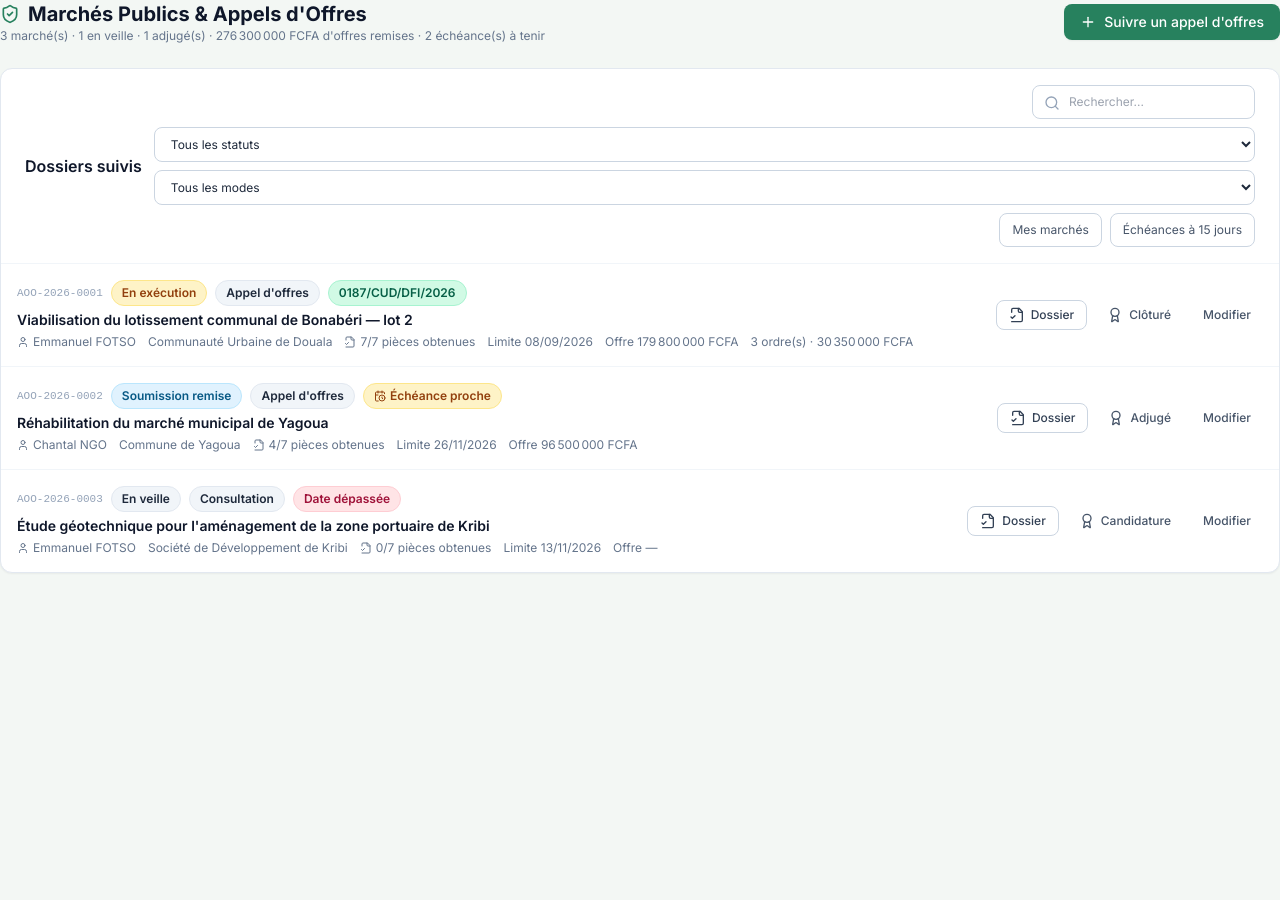
Test: TendersPage en mode démo › affiche les marchés locaux avec leur progression de pièces et leurs échéances
Expected: the text "AOO-2026-0001" is shown, [17, 285, 103, 301]
Expected: the text "Viabilisation du lotissement communal de Bonabéri — lot 2" is shown, [17, 311, 413, 328]
Click the 2nd button "Dossier".
click(1043, 418)  # box [997, 403, 1088, 433]
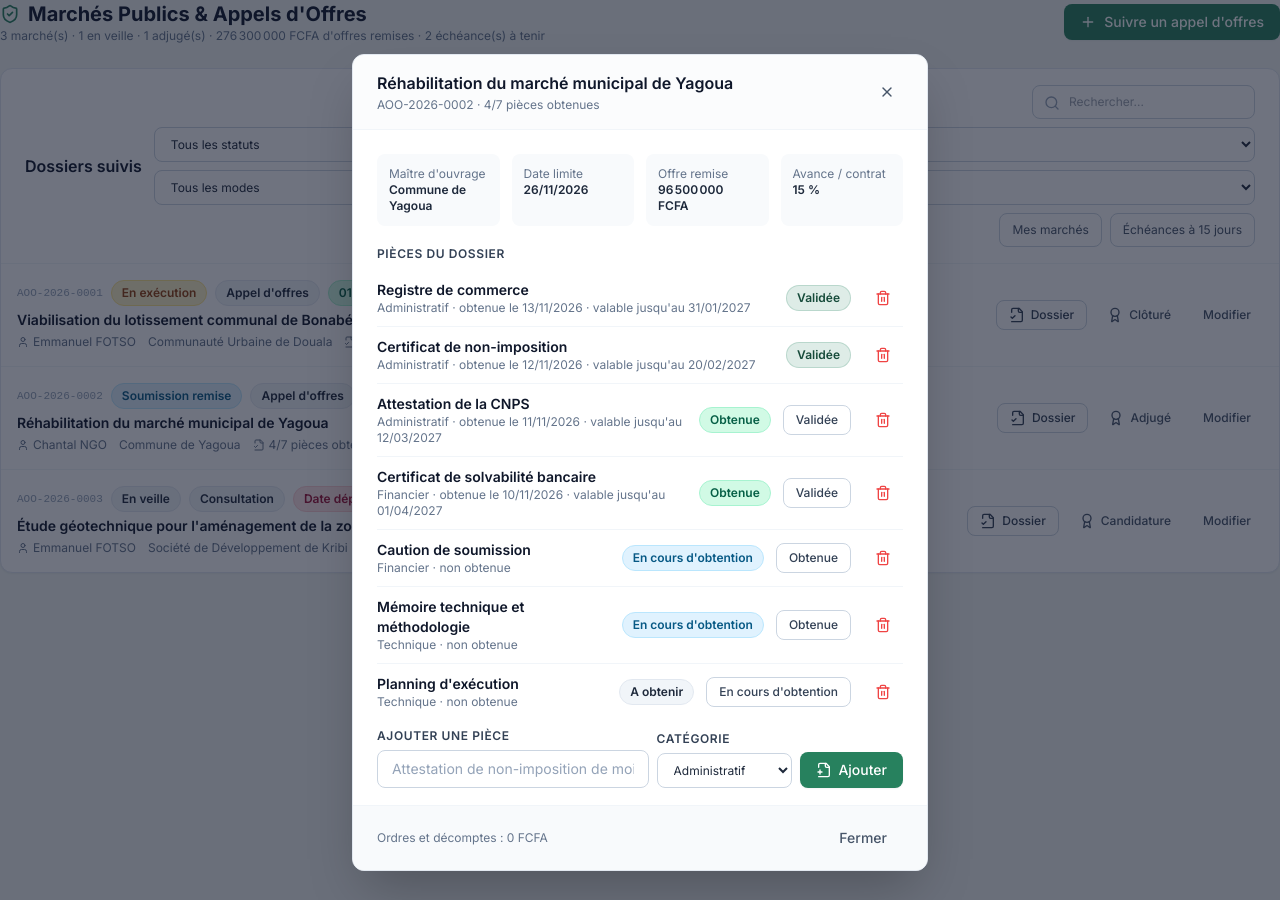
Now the text "AOO-2026-0002 · 4/7 pièces obtenues" is shown, box [377, 96, 600, 112]
Now the heading "Pièces du dossier" is shown, box [377, 246, 505, 260]
Now the text "Certificat de solvabilité bancaire" is shown, box [377, 468, 596, 484]
